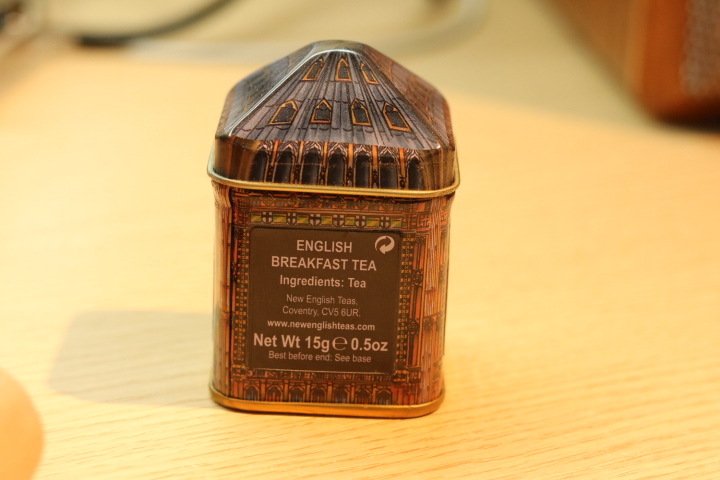Big Ben: (199, 29, 478, 428)
